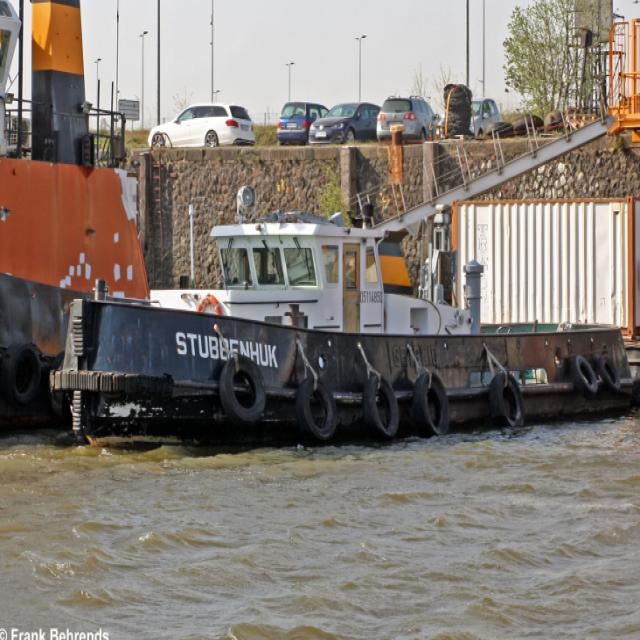tugboat: (44, 183, 640, 465)
